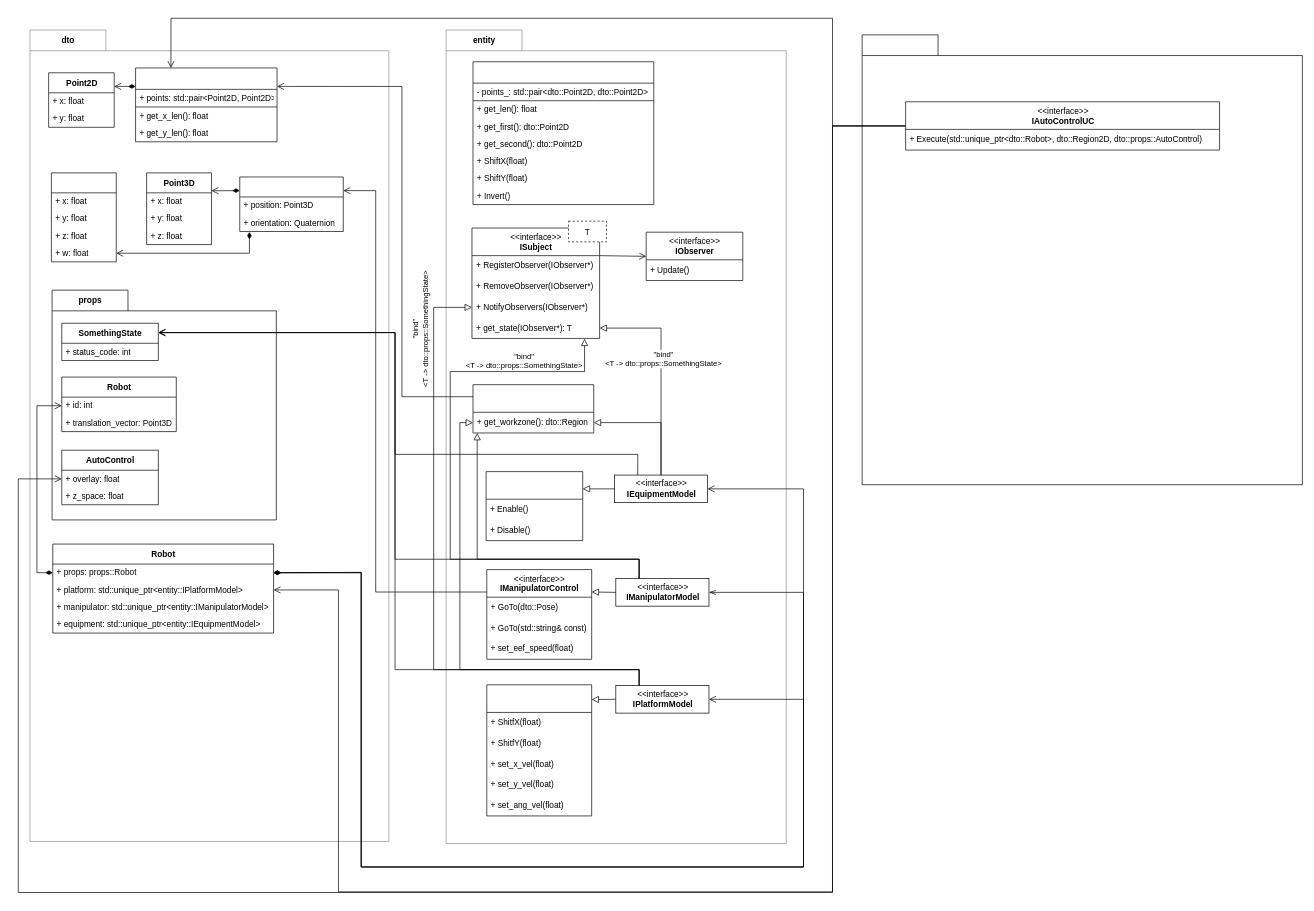
Image size: 1314x911. Some labels were removed from this diagram. The box of each missing label's shape, as (x1, y1, x2, y2) in pixels:
<<interface>> IEquipmentControl: (485, 471, 583, 541)
<<interface>> IGetWorkzone: (472, 384, 594, 433)
<<interface>> IPlatformControl: (486, 684, 592, 816)
Pose: (239, 176, 343, 231)
Quaternion: (51, 172, 116, 262)
Region2D: (135, 67, 277, 142)
use_case: (861, 34, 1302, 485)
Vector2D: (472, 61, 654, 205)
